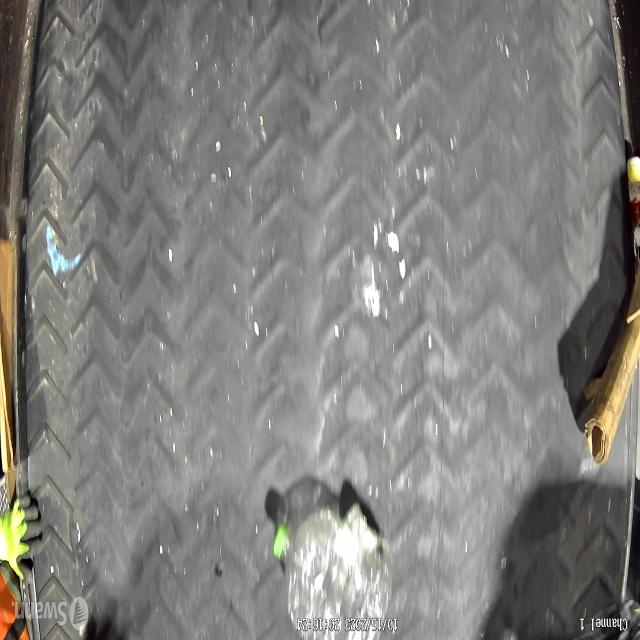plastic_bottle: (273, 505, 392, 640)
